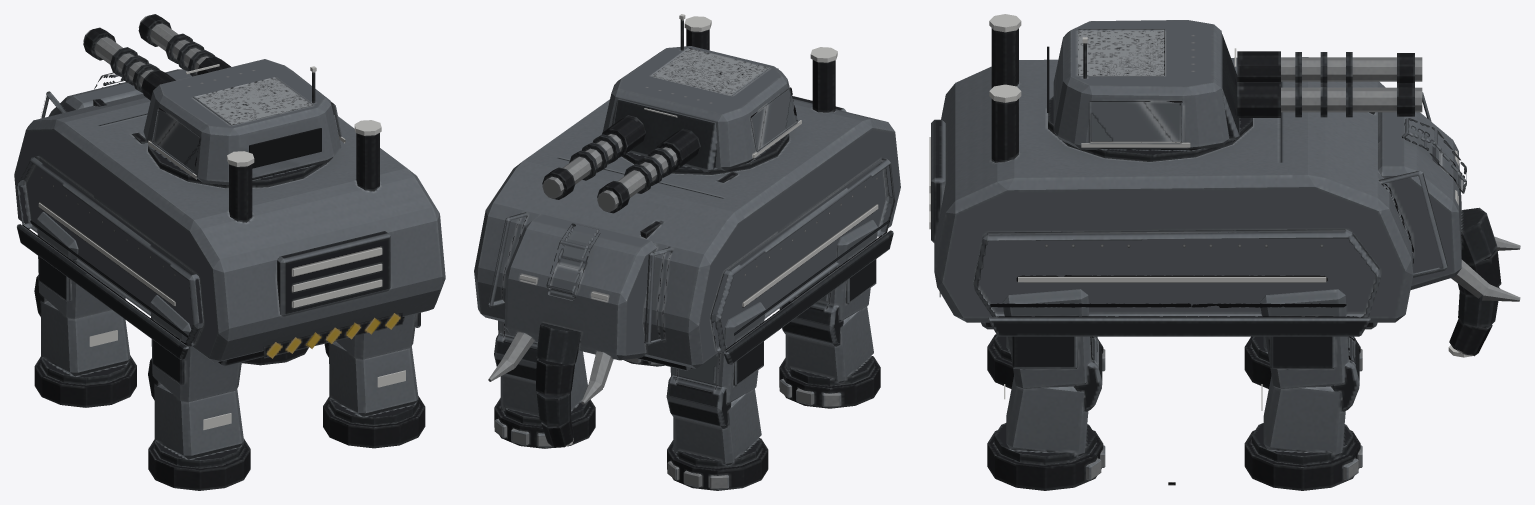
The model's file is chs_mammoth.fbx.
3 renders of one model, left to right at view 1: azimuth 30°, elevation 25°; view 2: azimuth 150°, elevation 25°; view 3: azimuth 270°, elevation 25°, orthographic. The views are drawn at different scales.
Visible parts, largest first — view 1: base_bar, turret_bar, legBL_bar, legFL_bar, legBR_bar, barrels_bar, base_glow_power_bar, base_glow_running_bar, legFR_bar; view 2: base_bar, turret_bar, legFL_bar, legBL_bar, barrels_bar, legFR_bar, base_glow_power_bar, base_glow_running_bar; view 3: base_bar, turret_bar, legBR_bar, legFR_bar, barrels_bar, base_glow_running_bar, legFL_bar, legBL_bar, base_glow_power_bar.
Boxes of the visible parts, x1,y1,x2,y2 form: base_bar: [14, 69, 445, 366]; turret_bar: [143, 59, 341, 185]; legBL_bar: [148, 295, 250, 490]; legFL_bar: [34, 212, 136, 407]; legBR_bar: [323, 312, 425, 448]; barrels_bar: [83, 14, 281, 147]; base_glow_power_bar: [227, 120, 382, 307]; base_glow_running_bar: [38, 203, 175, 306]; legFR_bar: [241, 347, 308, 365]; base_bar: [474, 29, 900, 447]; turret_bar: [603, 19, 798, 170]; legFL_bar: [666, 302, 768, 490]; legBL_bar: [779, 220, 880, 408]; barrels_bar: [542, 99, 717, 213]; legFR_bar: [494, 320, 595, 448]; base_glow_power_bar: [684, 16, 837, 62]; base_glow_running_bar: [743, 204, 878, 307]; base_bar: [931, 28, 1520, 356]; turret_bar: [1047, 20, 1229, 150]; legBR_bar: [987, 289, 1105, 490]; legFR_bar: [1244, 289, 1362, 490]; barrels_bar: [1180, 34, 1422, 139]; base_glow_running_bar: [1018, 277, 1326, 282]; legFL_bar: [1244, 336, 1362, 388]; legBL_bar: [987, 334, 1105, 388]; base_glow_power_bar: [929, 14, 1021, 229].
Bounding box in the file's own units: 950 × 1431 × 1631.
Materials: 2 (2 with a texture image).
